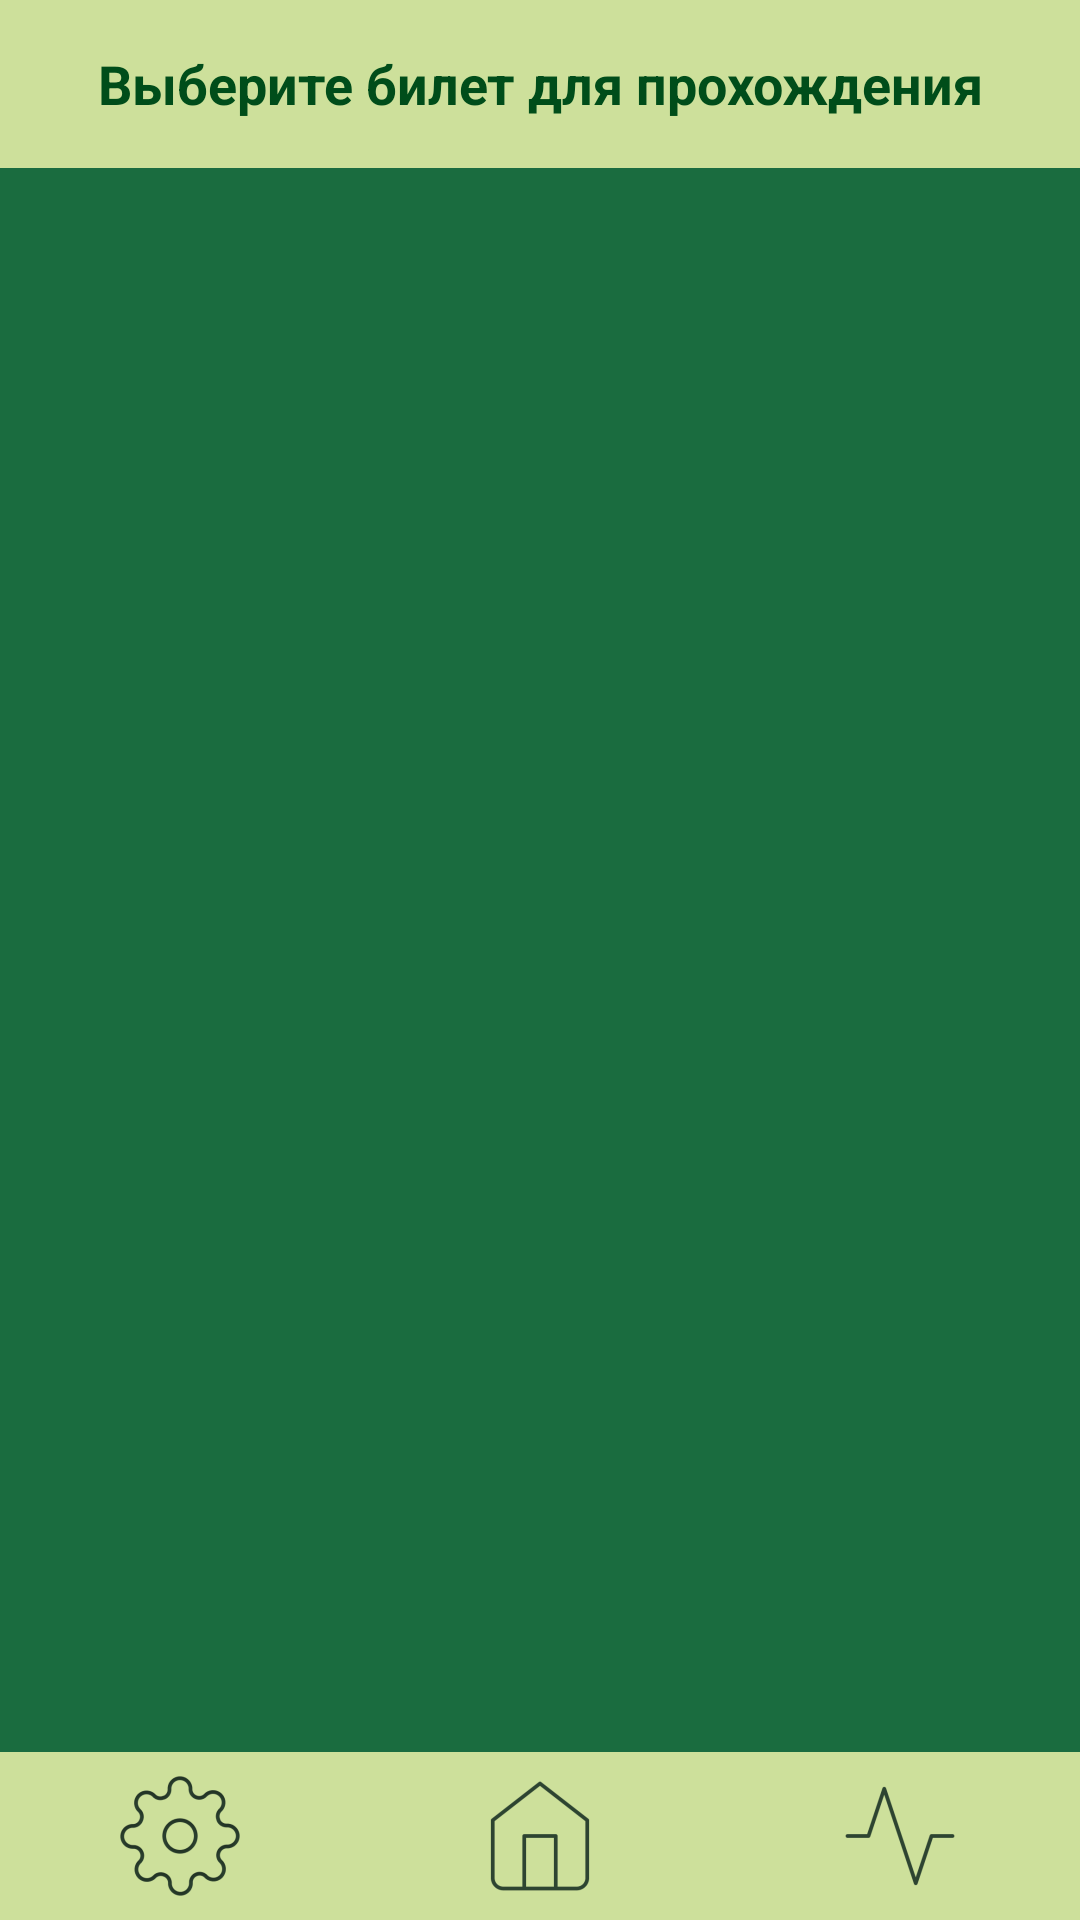

Named icons in this screenshot (1080 x 1920) and their centers, (x=x, y=y):
home: (x=540, y=1836)
setting: (x=180, y=1836)
stats: (x=900, y=1836)
